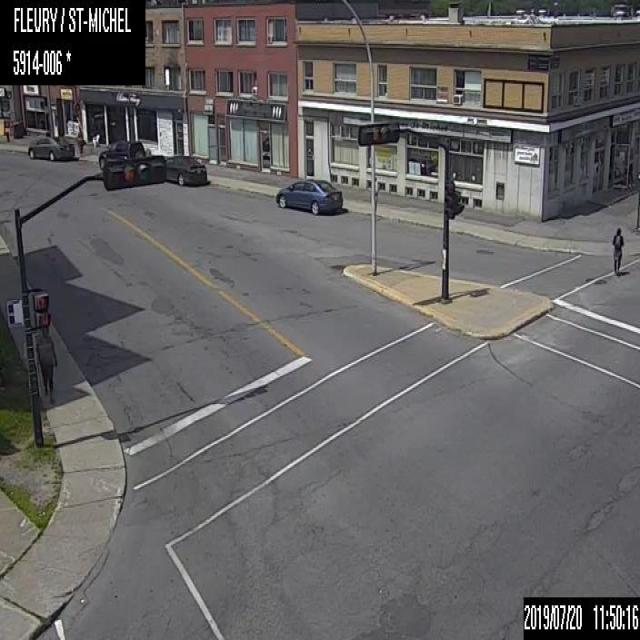pedestrian: (35, 327, 57, 393), (609, 225, 625, 276), (74, 124, 84, 153)
vehicle: (274, 176, 342, 215), (165, 152, 207, 187), (98, 139, 146, 169), (26, 132, 74, 161)
